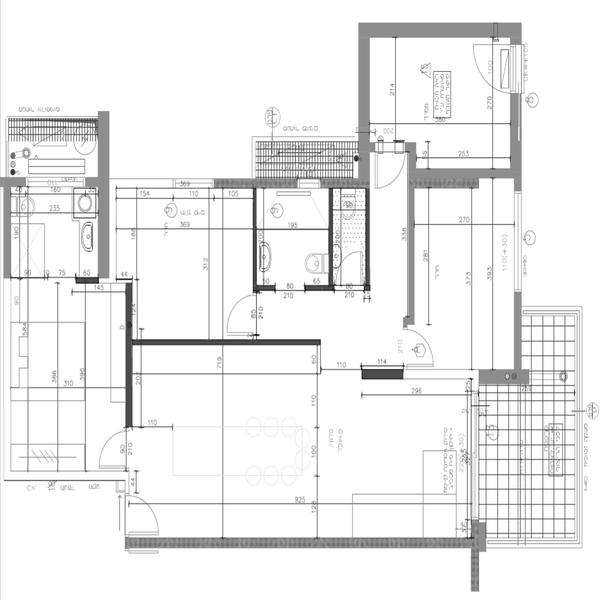door: (467, 35, 515, 93), (112, 487, 164, 540), (399, 323, 442, 374), (370, 139, 407, 192), (219, 291, 259, 337), (90, 428, 129, 475)
room: (121, 332, 321, 547), (316, 355, 489, 553), (394, 159, 532, 387), (359, 20, 531, 188), (104, 179, 263, 345), (252, 184, 373, 299), (1, 164, 111, 282)
wall: (123, 535, 490, 549), (364, 23, 522, 45), (133, 334, 325, 352), (402, 133, 417, 328), (97, 112, 112, 281), (416, 164, 514, 189), (121, 280, 138, 424), (358, 23, 371, 183), (509, 93, 527, 192), (1, 175, 16, 279), (362, 193, 376, 294), (326, 188, 339, 292), (249, 190, 262, 288), (511, 289, 524, 369), (473, 370, 531, 387), (366, 359, 404, 384), (210, 179, 300, 188), (324, 178, 369, 190)
window: (24, 175, 87, 193), (300, 178, 322, 191)
